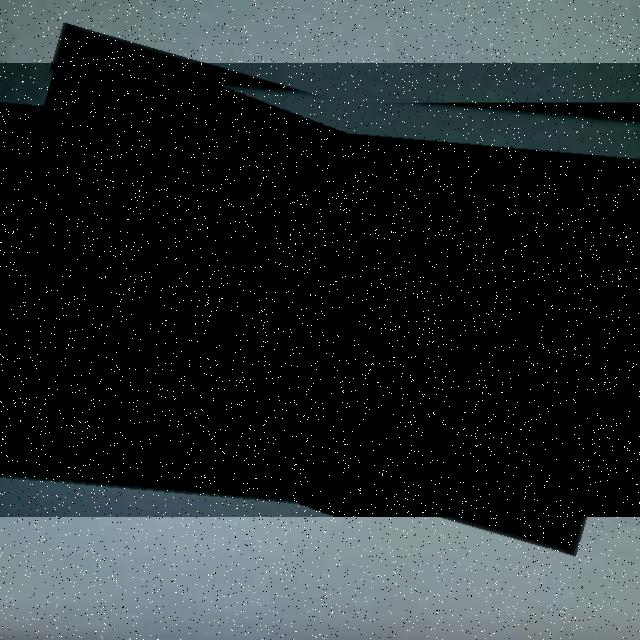lima puluh ribu rupiah: (0, 63, 640, 517)
